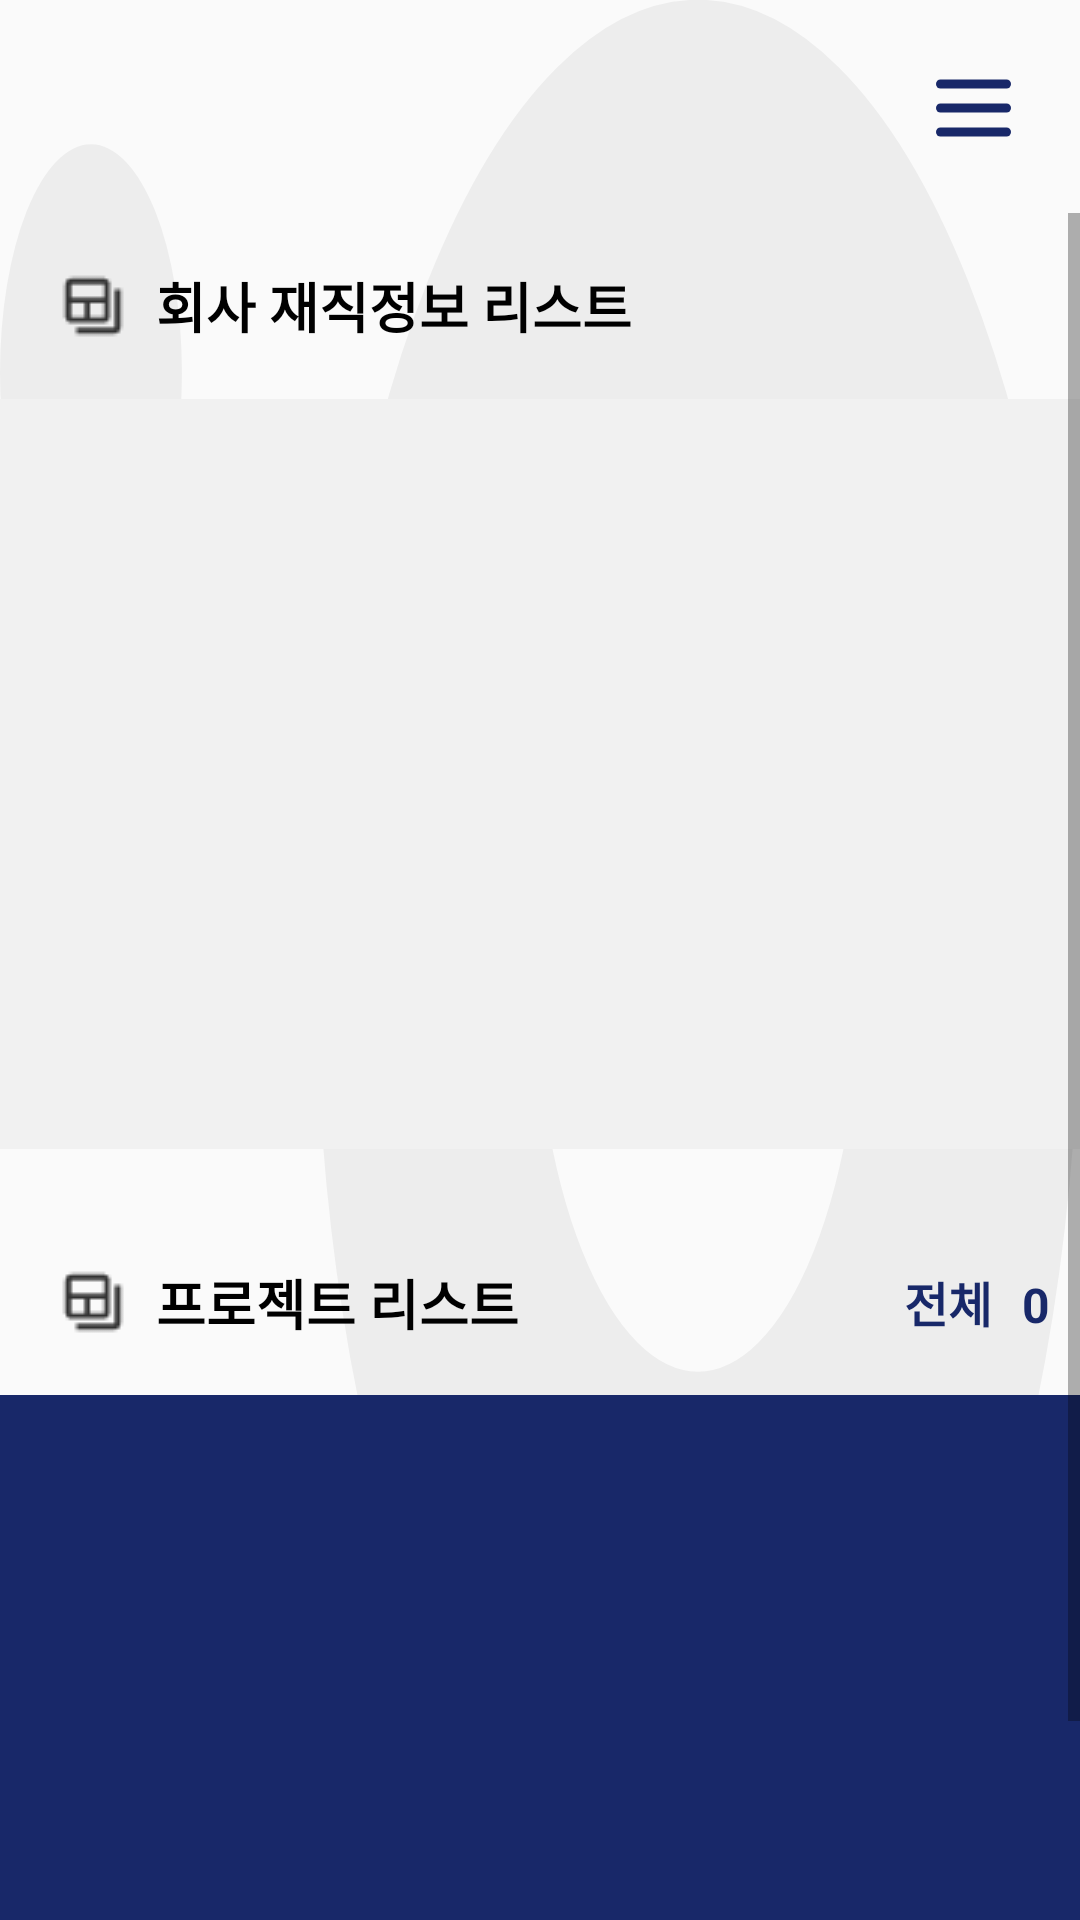

Icons on this 1080 x 1920 Android screen, each with the point to tap as point (x, y):
menu: point (973, 108)
project: point (93, 306), point (93, 1302)
